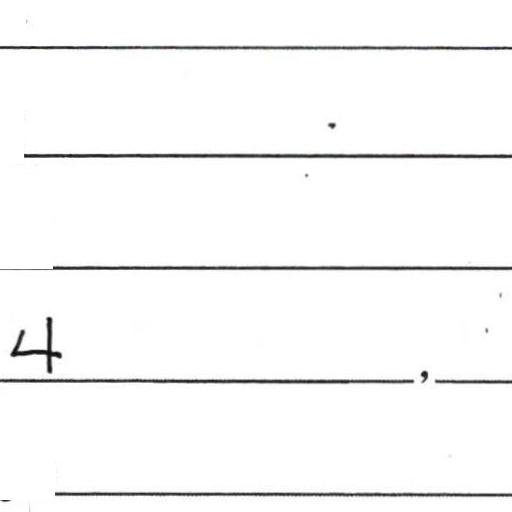ans: (4, 312, 63, 374)
